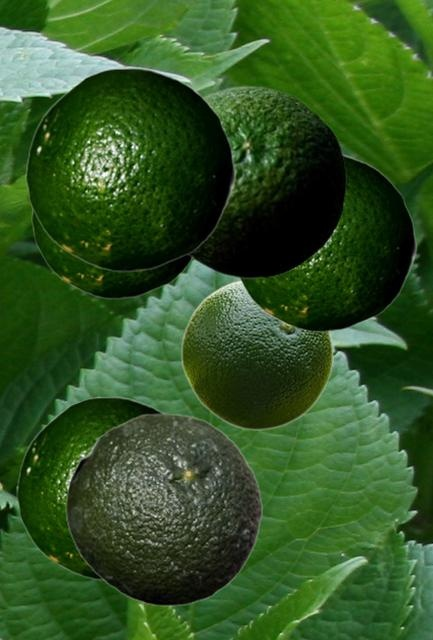calamansi: (25, 67, 235, 271), (65, 413, 262, 605), (237, 152, 416, 331), (186, 85, 345, 278), (16, 396, 166, 579), (180, 279, 333, 429), (31, 210, 192, 298)
